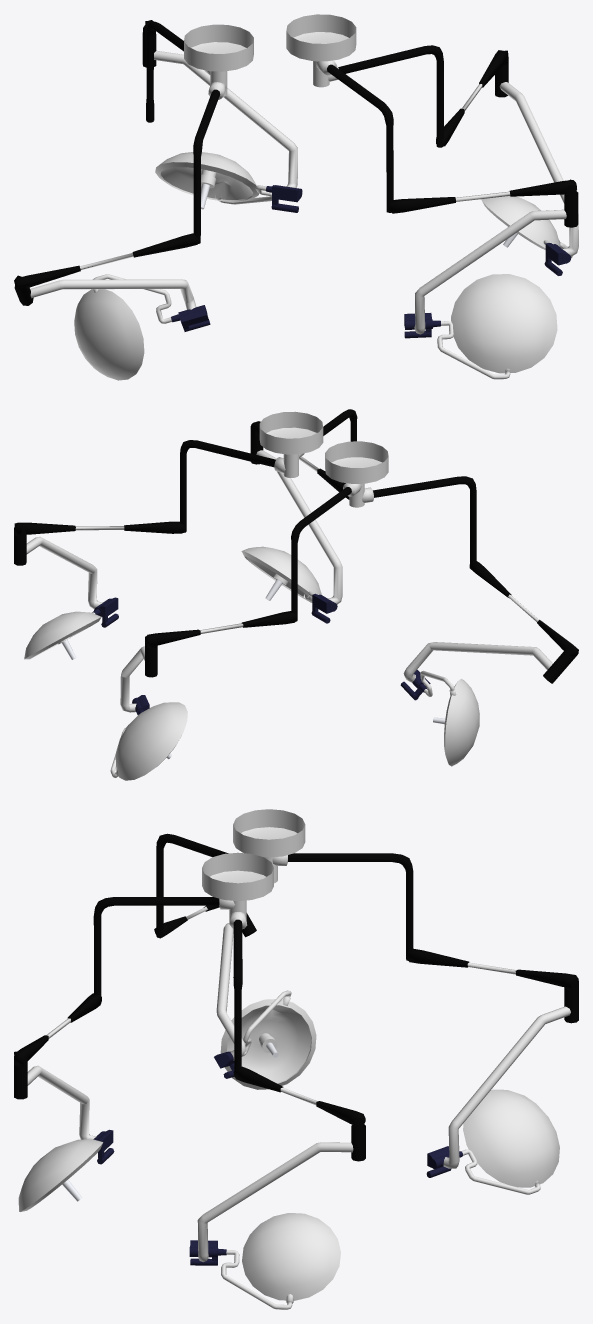
File: Model_Lamp.fbx
3 renders of one model, top to bottom at view 1: azimuth 30°, elevation 25°; view 2: azimuth 150°, elevation 25°; view 3: azimuth 270°, elevation 25°, orthographic. The views are drawn at different scales.
Parts seen in each view (by area): view 1: Model_Lamp_Arm_Stick_Arm2_Handle_Arm3_Light.002, Model_Lamp_Arm_Stick_Arm2_Handle_Arm3_Light.003, Model_Lamp_Arm_Stick_Arm2_Handle_Arm3_Light.004, Model_Lamp, Model_Lamp.001, Model_Lamp_Arm_Stick_Arm2.002, Model_Lamp_Arm_Stick_Arm2.003, Model_Lamp_Arm_Stick_Arm2.004, Model_Lamp_Arm_Stick_Arm2_Handle_Arm3_Light.001, Model_Lamp_Arm_Stick_Arm2.001, Model_Lamp_Arm.001, Model_Lamp_Arm_Stick.002 (+11 smaller); view 2: Model_Lamp_Arm_Stick_Arm2_Handle_Arm3_Light.004, Model_Lamp, Model_Lamp.001, Model_Lamp_Arm_Stick_Arm2_Handle_Arm3_Light.003, Model_Lamp_Arm_Stick_Arm2.003, Model_Lamp_Arm_Stick_Arm2_Handle_Arm3_Light.002, Model_Lamp_Arm_Stick_Arm2_Handle_Arm3_Light.001, Model_Lamp_Arm_Stick_Arm2.002, Model_Lamp_Arm.003, Model_Lamp_Arm_Stick_Arm2.001, Model_Lamp_Arm.001, Model_Lamp_Arm_Stick.001 (+7 smaller); view 3: Model_Lamp_Arm_Stick_Arm2_Handle_Arm3_Light.004, Model_Lamp_Arm_Stick_Arm2_Handle_Arm3_Light.001, Model_Lamp_Arm_Stick_Arm2_Handle_Arm3_Light.003, Model_Lamp, Model_Lamp.001, Model_Lamp_Arm_Stick_Arm2_Handle_Arm3_Light.002, Model_Lamp_Arm_Stick_Arm2.004, Model_Lamp_Arm_Stick_Arm2.001, Model_Lamp_Arm.004, Model_Lamp_Arm.002, Model_Lamp_Arm_Stick_Arm2.002, Model_Lamp_Arm_Stick.004 (+7 smaller).
Part boxes in pixels (x1=…): Model_Lamp_Arm_Stick_Arm2_Handle_Arm3_Light.002: x1=451, y1=274, x2=557, y2=373; Model_Lamp_Arm_Stick_Arm2_Handle_Arm3_Light.003: x1=74, y1=289, x2=144, y2=380; Model_Lamp_Arm_Stick_Arm2_Handle_Arm3_Light.004: x1=155, y1=152, x2=258, y2=209; Model_Lamp: x1=286, y1=14, x2=356, y2=87; Model_Lamp.001: x1=184, y1=24, x2=253, y2=96; Model_Lamp_Arm_Stick_Arm2.002: x1=414, y1=179, x2=578, y2=334; Model_Lamp_Arm_Stick_Arm2.003: x1=14, y1=275, x2=196, y2=309; Model_Lamp_Arm_Stick_Arm2.004: x1=142, y1=20, x2=297, y2=187; Model_Lamp_Arm_Stick_Arm2_Handle_Arm3_Light.001: x1=481, y1=196, x2=560, y2=249; Model_Lamp_Arm_Stick_Arm2.001: x1=495, y1=50, x2=578, y2=256; Model_Lamp_Arm.001: x1=328, y1=45, x2=443, y2=147; Model_Lamp_Arm_Stick.002: x1=389, y1=180, x2=576, y2=213; Model_Lamp_Arm_Stick_Arm2_Handle_Arm3_Light.004: x1=115, y1=702, x2=187, y2=780; Model_Lamp: x1=259, y1=411, x2=323, y2=477; Model_Lamp.001: x1=325, y1=441, x2=388, y2=507; Model_Lamp_Arm_Stick_Arm2_Handle_Arm3_Light.003: x1=433, y1=678, x2=479, y2=766; Model_Lamp_Arm_Stick_Arm2.003: x1=403, y1=642, x2=576, y2=683; Model_Lamp_Arm_Stick_Arm2_Handle_Arm3_Light.002: x1=241, y1=546, x2=321, y2=602; Model_Lamp_Arm_Stick_Arm2_Handle_Arm3_Light.001: x1=24, y1=611, x2=101, y2=659; Model_Lamp_Arm_Stick_Arm2.002: x1=250, y1=421, x2=342, y2=604; Model_Lamp_Arm.003: x1=362, y1=476, x2=476, y2=563; Model_Lamp_Arm_Stick_Arm2.001: x1=14, y1=523, x2=102, y2=608; Model_Lamp_Arm.001: x1=180, y1=440, x2=285, y2=532; Model_Lamp_Arm_Stick.001: x1=14, y1=521, x2=185, y2=534; Model_Lamp_Arm_Stick_Arm2_Handle_Arm3_Light.004: x1=463, y1=1089, x2=559, y2=1187; Model_Lamp_Arm_Stick_Arm2_Handle_Arm3_Light.001: x1=242, y1=1213, x2=340, y2=1300; Model_Lamp_Arm_Stick_Arm2_Handle_Arm3_Light.003: x1=220, y1=999, x2=316, y2=1089; Model_Lamp: x1=202, y1=852, x2=273, y2=925; Model_Lamp.001: x1=233, y1=809, x2=305, y2=883; Model_Lamp_Arm_Stick_Arm2_Handle_Arm3_Light.002: x1=18, y1=1139, x2=103, y2=1211; Model_Lamp_Arm_Stick_Arm2.004: x1=443, y1=978, x2=578, y2=1168; Model_Lamp_Arm_Stick_Arm2.001: x1=197, y1=1117, x2=365, y2=1262; Model_Lamp_Arm.004: x1=272, y1=853, x2=413, y2=960; Model_Lamp_Arm.002: x1=93, y1=897, x2=235, y2=995; Model_Lamp_Arm_Stick_Arm2.002: x1=14, y1=1051, x2=96, y2=1139; Model_Lamp_Arm_Stick.004: x1=406, y1=948, x2=578, y2=988.
Bounding box in the file's own units: 321 × 165 × 265.
